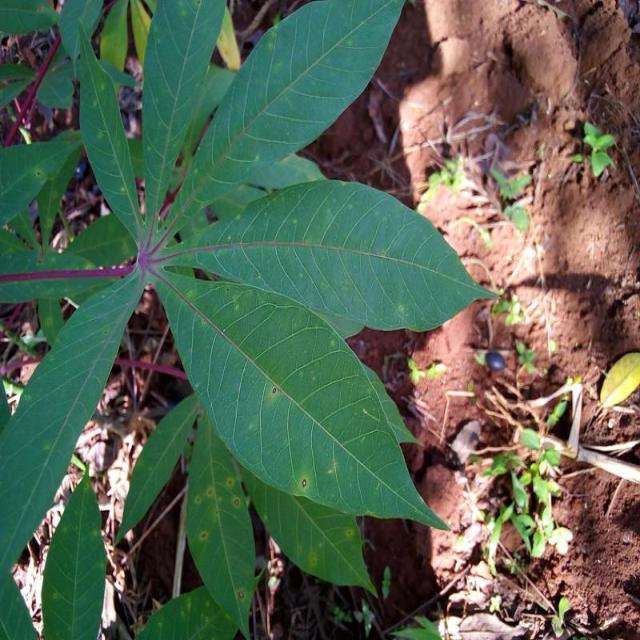cassava leaf: (1, 0, 498, 636), (153, 264, 451, 531), (168, 177, 500, 336)
